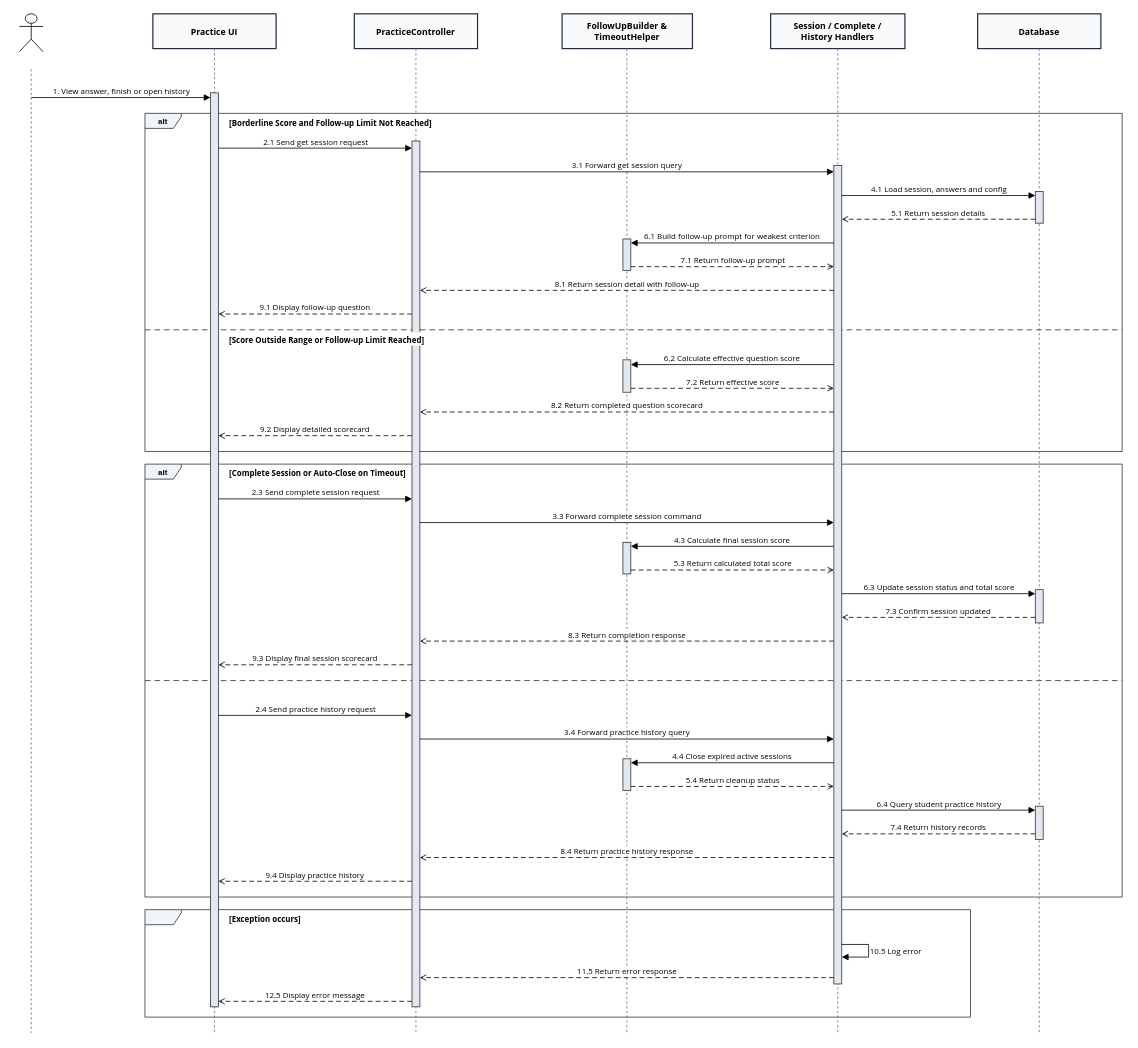
Image size: 1138x1048. Some labels were removed from this diagram. The box of each missing label's shape, as (x1, y1, x2, y2) in pixels:
[View Student Practice History]: (226, 683, 352, 696)
opt: (144, 909, 971, 1017)
Student: (19, 13, 43, 52)
